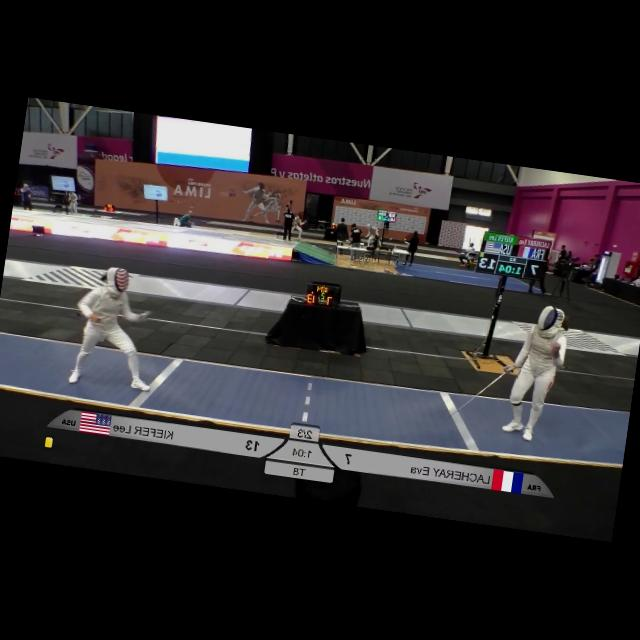blade: (440, 357, 512, 434)
